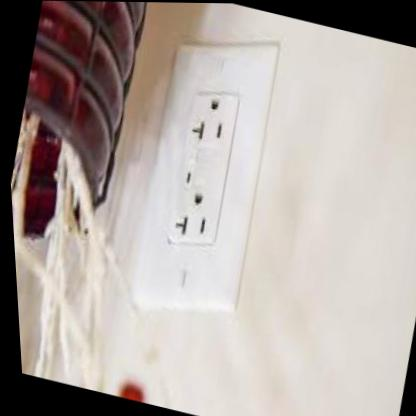OUTLET: (112, 22, 299, 331)
